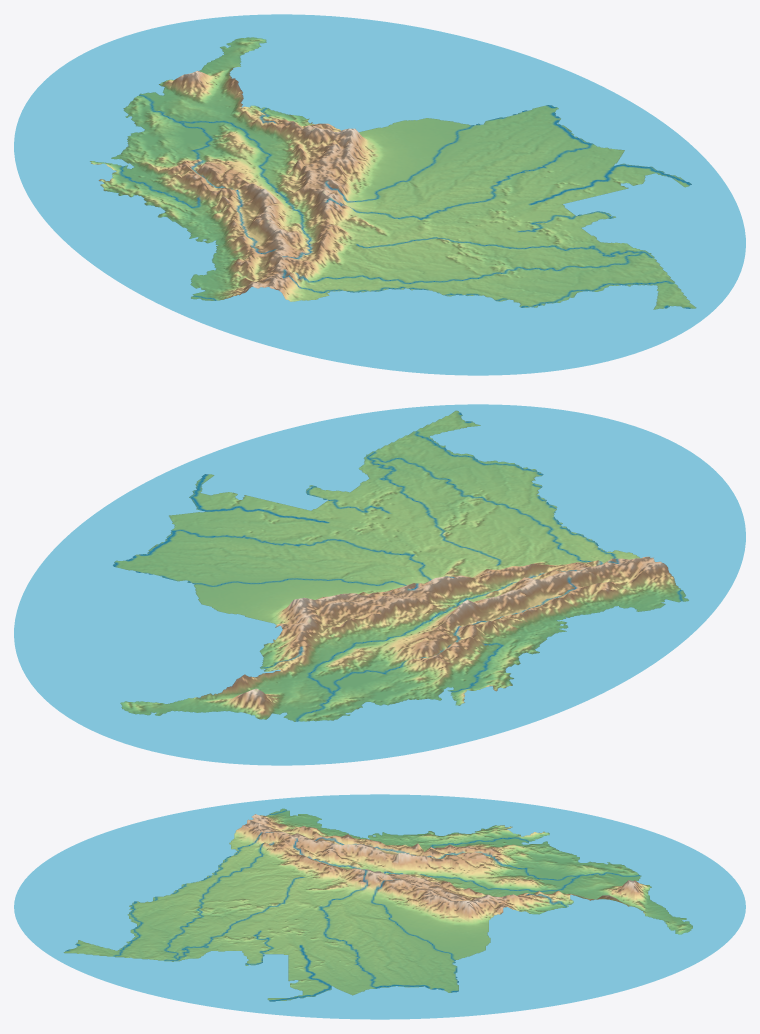
The model's file is COL-terrain.glb.
The picture shows the model from 3 angles, top to bottom: view 1: azimuth 30°, elevation 25°; view 2: azimuth 150°, elevation 25°; view 3: azimuth 270°, elevation 25°; orthographic projection. The views are drawn at different scales.
Parts seen in each view (by area): view 1: Relevo com hidrografia; view 2: Relevo com hidrografia; view 3: Relevo com hidrografia.
Boxes of the visible parts, <box> form: Relevo com hidrografia: <box>14,14,745,375</box>; Relevo com hidrografia: <box>14,404,745,765</box>; Relevo com hidrografia: <box>14,794,745,1019</box>.
Bounding box in the file's own units: 1.36 × 0.0448 × 1.86.
2 materials, 1 textured.
